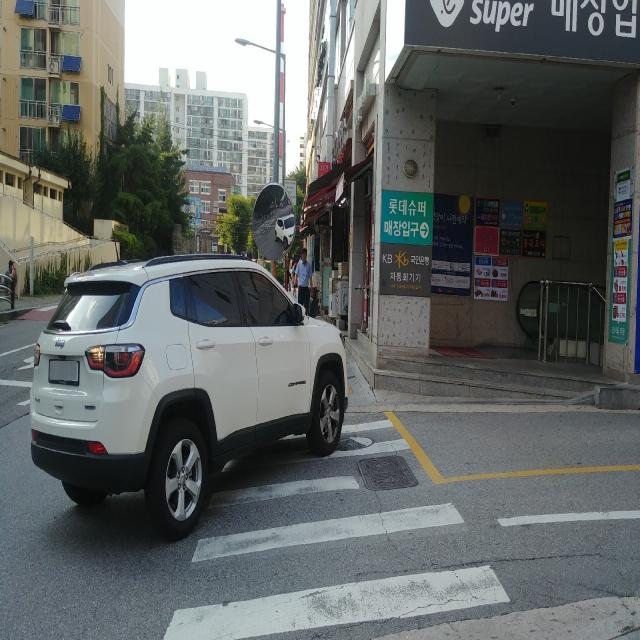횡단보도: (162, 416, 512, 640)
